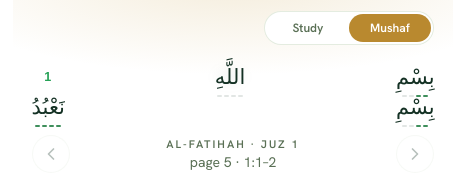
Reader › Mushaf: tapping reveals the meaning but does not demote, and the undermark stays read-only
This screenshot has width=470, height=187.
Step 1. Click the 1st button "بِسْمِ" → (415, 77), box left=393, top=64, right=437, bottom=90
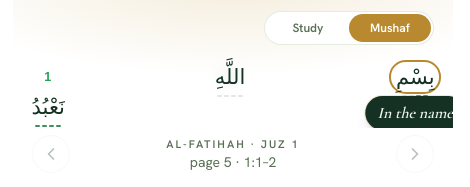
Check: the text with test id "word-meaning" reads "In the name", box left=378, top=103, right=453, bottom=123
